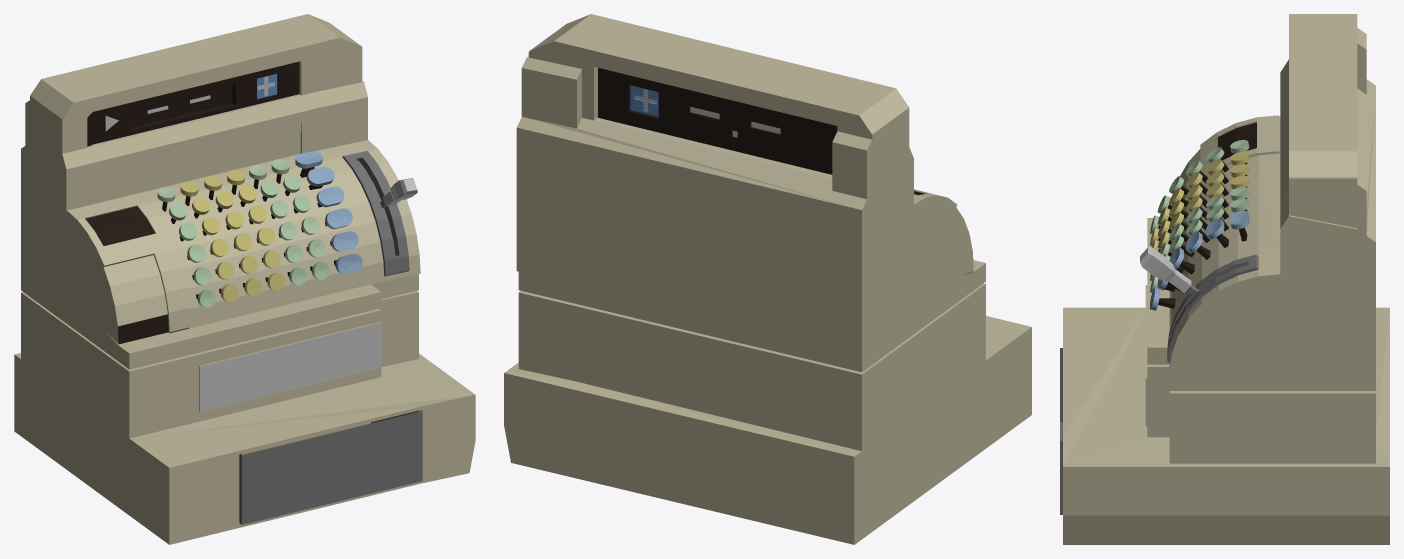
The model's file is register.fbx.
3 views of the same model, side by side, from view 1: azimuth 30°, elevation 25°; view 2: azimuth 150°, elevation 25°; view 3: azimuth 270°, elevation 25° (orthographic). The views are drawn at different scales.
Parts seen in each view (by area): view 1: obj0, obj0.002, obj0.001; view 2: obj0; view 3: obj0, obj0.001, obj0.002.
Boxes of the visible parts, x1,y1,x2,y2 form: obj0: (14, 14, 475, 544); obj0.002: (239, 410, 422, 524); obj0.001: (380, 178, 417, 208); obj0: (504, 14, 1031, 544); obj0: (1063, 14, 1389, 544); obj0.001: (1140, 247, 1199, 295); obj0.002: (1060, 348, 1062, 514).
Bounding box in the file's own units: 3.36 × 3.8 × 2.97.
